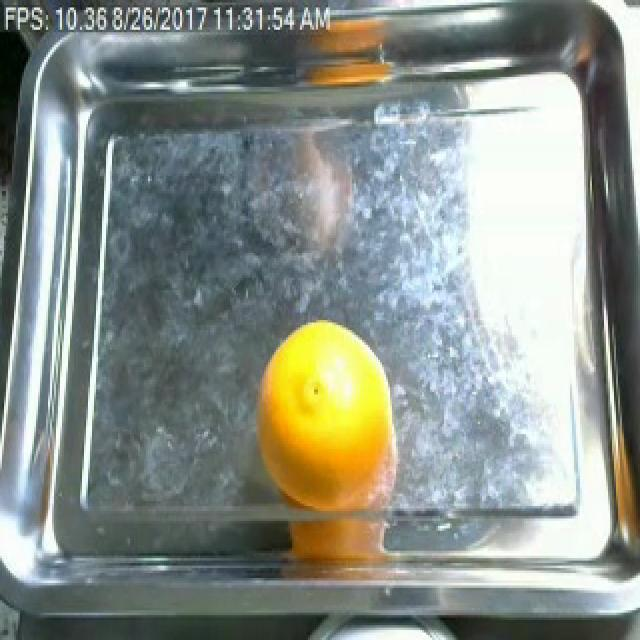Fruit: (250, 310, 402, 519), (294, 47, 402, 94), (302, 15, 402, 64)
